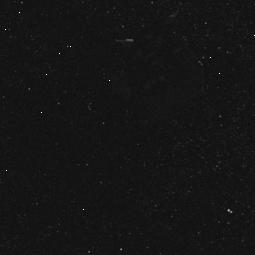proba_2: (81, 10, 189, 115)
